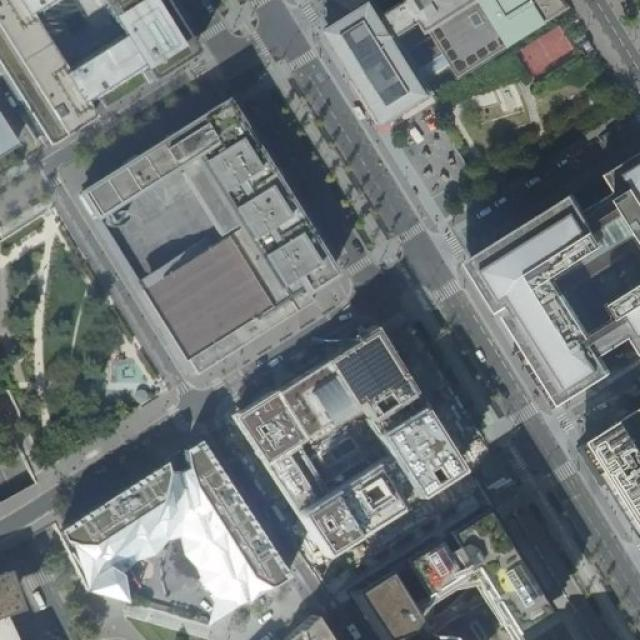immeuble: (88, 102, 338, 368), (240, 326, 466, 546), (52, 434, 288, 620), (457, 195, 640, 390), (328, 0, 574, 104), (0, 0, 192, 126), (5, 80, 6, 81)
